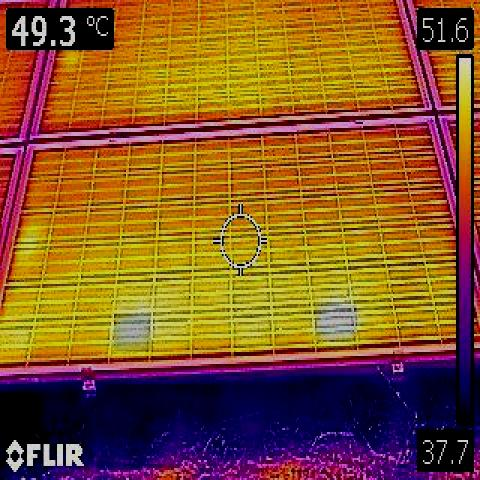fault: (315, 305, 357, 341), (114, 313, 151, 351)
